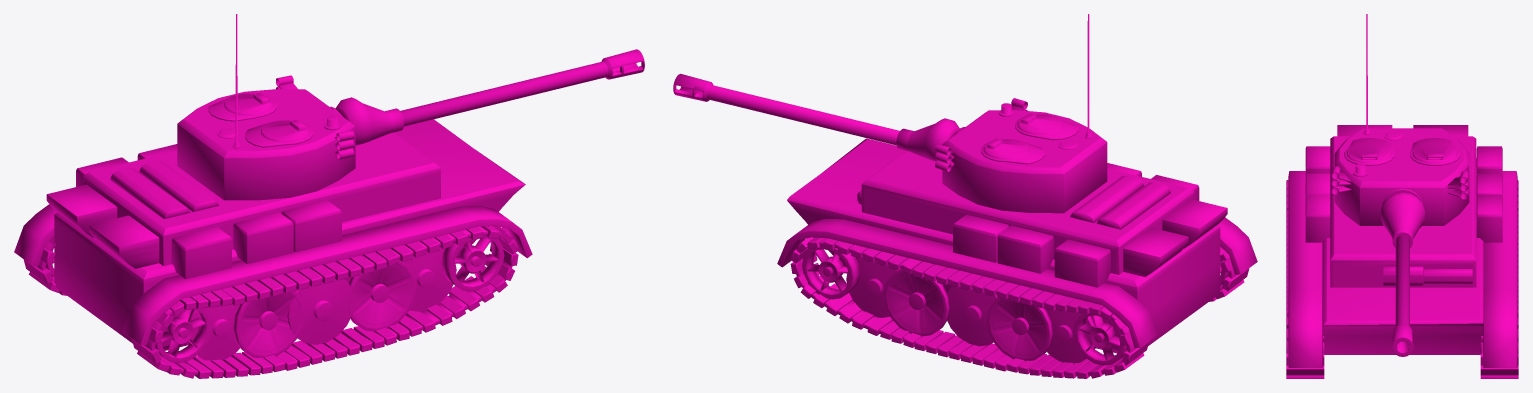
The model's file is gidong_1.fbx.
3 views of the same model, side by side, from view 1: azimuth 30°, elevation 25°; view 2: azimuth 150°, elevation 25°; view 3: azimuth 270°, elevation 25° (orthographic). The views are drawn at different scales.
Visible parts, largest first — view 1: Box004; view 2: Box004; view 3: Box004.
Part boxes in pixels (box(x1,y1,x2,y2)): Box004: box(14, 14, 644, 378); Box004: box(673, 14, 1257, 378); Box004: box(1286, 14, 1518, 378).
Size of the model in its own units: 11.08 by 6.13 by 4.41.
